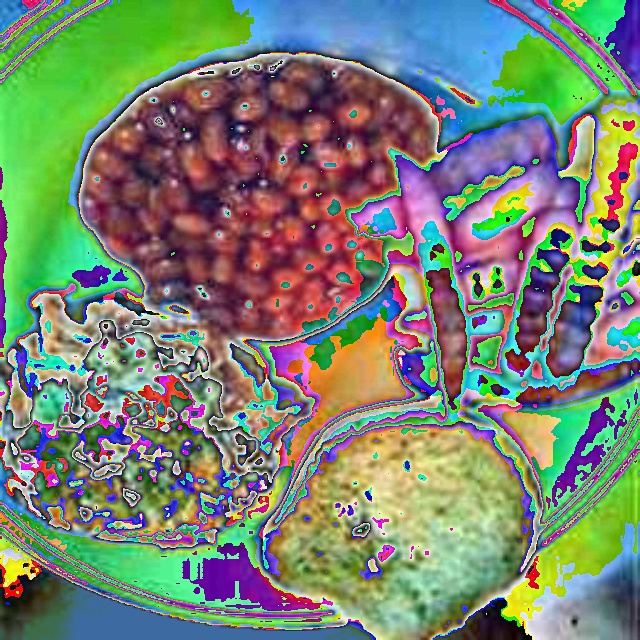background: (0, 60, 640, 639)
